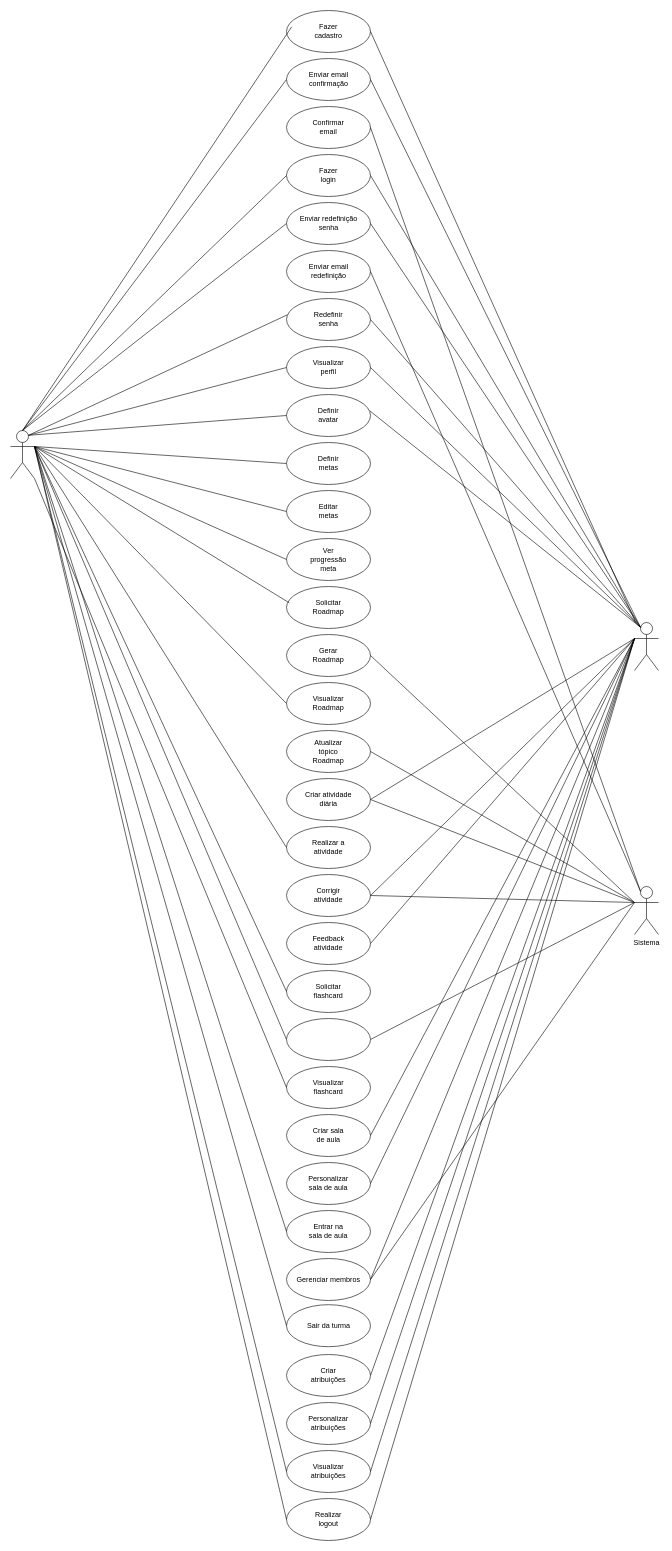
The diagram is 672 pixels wide and 1551 high, and some of its shapes have lost their labels. Here are the shapes that lost their labels. From the top down, the centre of each, then its label:
At point 22,454: "Aluno".
At point 646,646: "Professor".
At point 328,1039: "Gerar flashcard".
